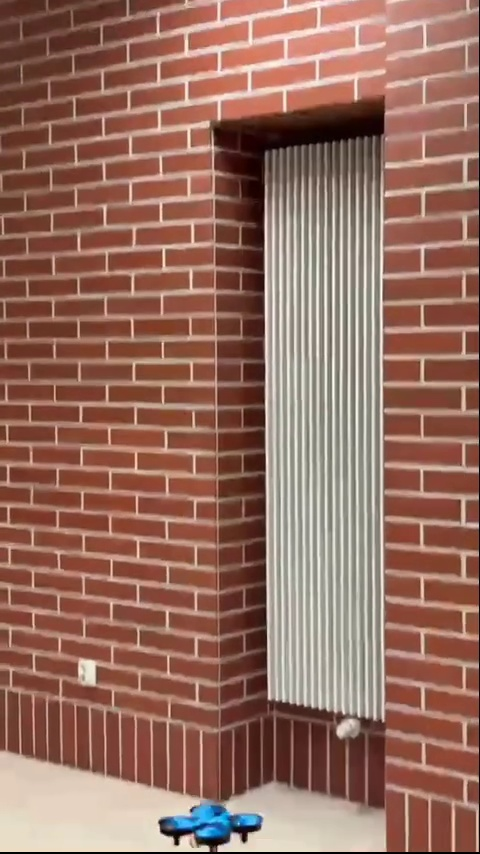drone: (163, 804, 267, 853)
